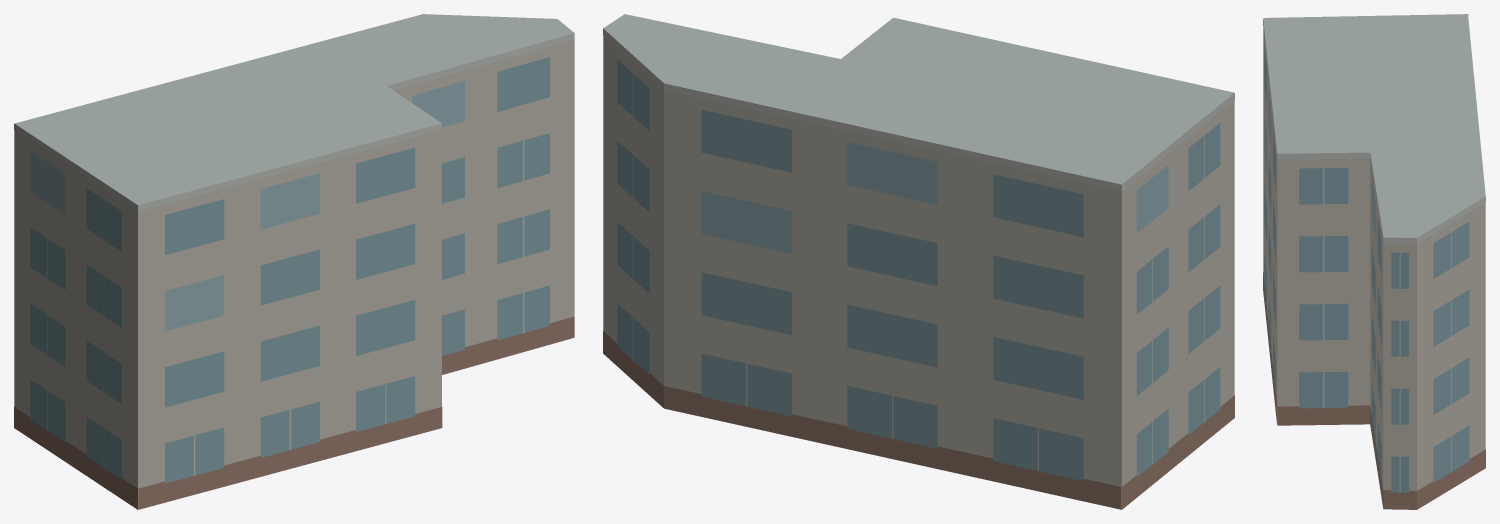
Rendered from survey-upis-32619389.glb.
3 views of the same model, side by side, from view 1: azimuth 30°, elevation 25°; view 2: azimuth 150°, elevation 25°; view 3: azimuth 270°, elevation 25° (orthographic). The views are drawn at different scales.
Visible parts, largest first — view 1: survey-upis-32619389.tmp; view 2: survey-upis-32619389.tmp; view 3: survey-upis-32619389.tmp.
Part boxes in pixels (x1=…): survey-upis-32619389.tmp: x1=14, y1=14, x2=574, y2=509; survey-upis-32619389.tmp: x1=603, y1=14, x2=1234, y2=509; survey-upis-32619389.tmp: x1=1263, y1=14, x2=1485, y2=509.
Size of the model in its own units: 20.13 by 11.38 by 8.46.
